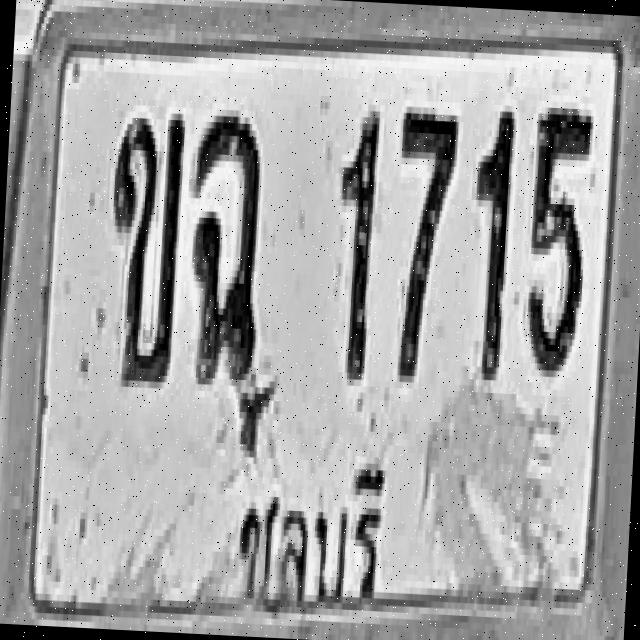1: (330, 106, 380, 383), (465, 104, 515, 381)
11KhorKhai: (101, 107, 186, 386)
18ChorChing: (183, 109, 274, 394)
5: (524, 100, 592, 378)
7: (388, 106, 460, 384)
Chonburi: (228, 433, 395, 625)
